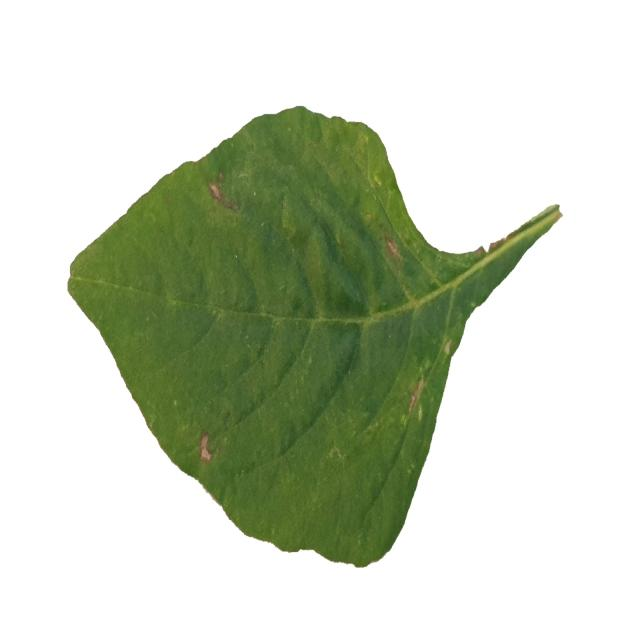Medicinal-Arive Dantu: (66, 105, 565, 571)
